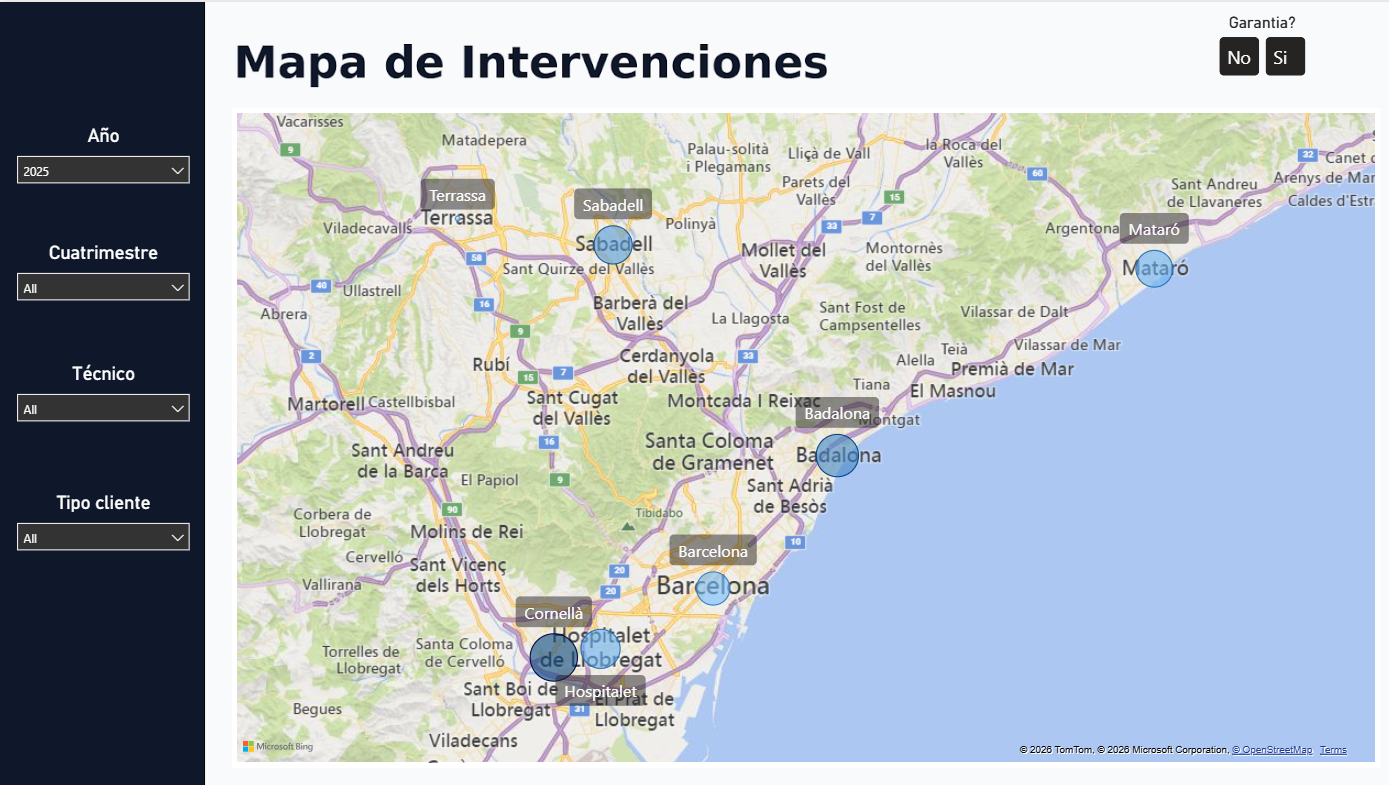

Layout of this report page (visuals, bound fields, positions):
{"tool":"powerbi","page":{"name":"Mapa de asistencias","canvas":[1280,720],"ordinal":4},"visuals":[{"type":"map","fields":{"Size":["Bloque_eficiencia_DAX.Total_intervenciones"],"Category":["Clientes.Ciudad"]},"box":[211.8,96.4,1043.6,600],"z":1000},{"type":"slicer","title":"Año","fields":{"Values":["CalendarBridge.Date.Variation.Date Hierarchy.Year"]},"box":[6.4,110.9,177.3,64.5],"z":2000},{"type":"slicer","title":"Cuatrimestre","fields":{"Values":["CalendarBridge.Date.Variation.Date Hierarchy.Quarter"]},"box":[6.4,217.3,177.3,68.2],"z":3000},{"type":"slicer","title":"Técnico","fields":{"Values":["Tecnicos.Nombre"]},"box":[6.4,327.3,177.3,68.2],"z":4000},{"type":"slicer","title":"Tipo cliente","fields":{"Values":["Clientes.TipoCliente"]},"box":[6.4,444.5,177.3,68.2],"z":6000},{"type":"advancedSlicerVisual","title":"Garantia?","fields":{"Values":["Intervenciones.Garantia"]},"box":[1084.9,10.6,128.1,61.1],"z":7000}]}

Visuals, with their boxes in screenshot pixels (x1, y1, x2, y2), scaled from the page's 1280x720 canvas onto the 1389x785 screenshot:
map - Bloque_eficiencia_DAX.Total_intervenciones x Clientes.Ciudad: box(230, 105, 1362, 759)
"Año" slicer: box(7, 121, 199, 191)
"Cuatrimestre" slicer: box(7, 237, 199, 311)
"Técnico" slicer: box(7, 357, 199, 431)
"Tipo cliente" slicer: box(7, 485, 199, 559)
"Garantia?" advancedSlicerVisual: box(1177, 12, 1316, 78)
